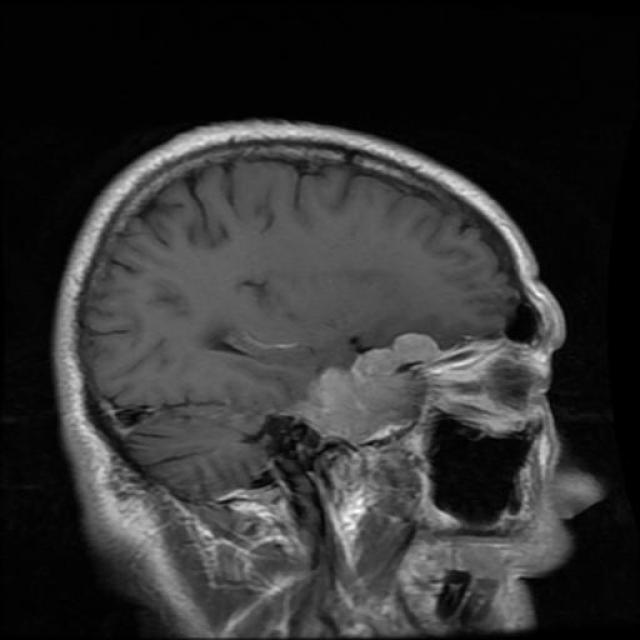meningioma: (304, 338, 441, 444)
